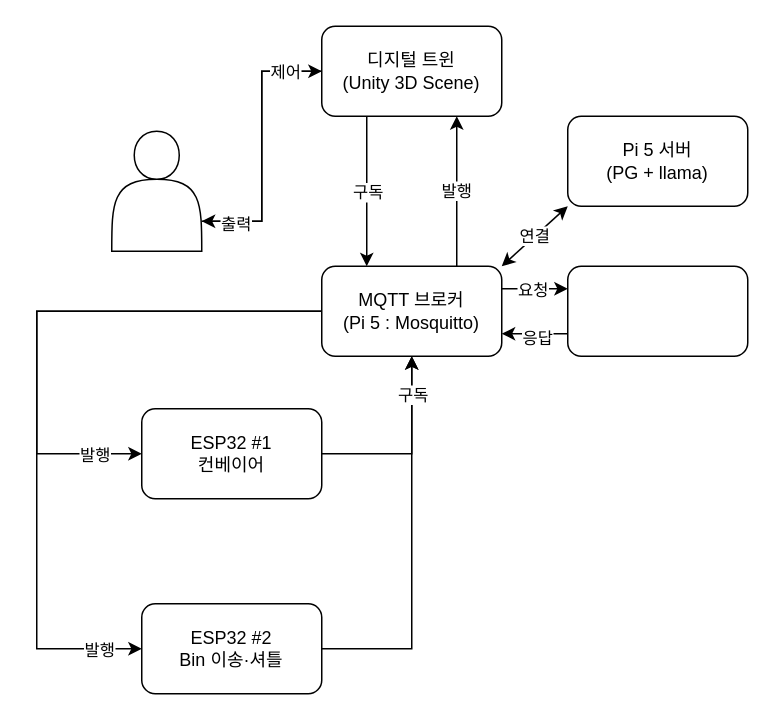
This 774x720 diagram has some shape labels left out. The shapes that lost their labels are listed below. From the top down, each one's centre as x and y in pixels, then its label:
(x=156, y=190): 사용자
(x=657, y=310): Gemini API 부품 분류
